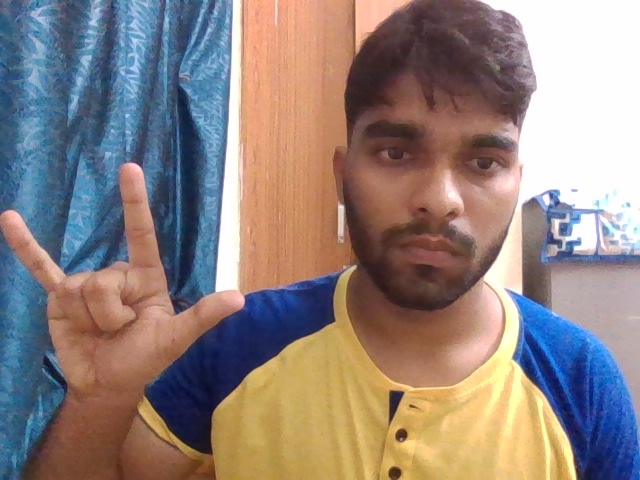I love you: (1, 149, 254, 404)
